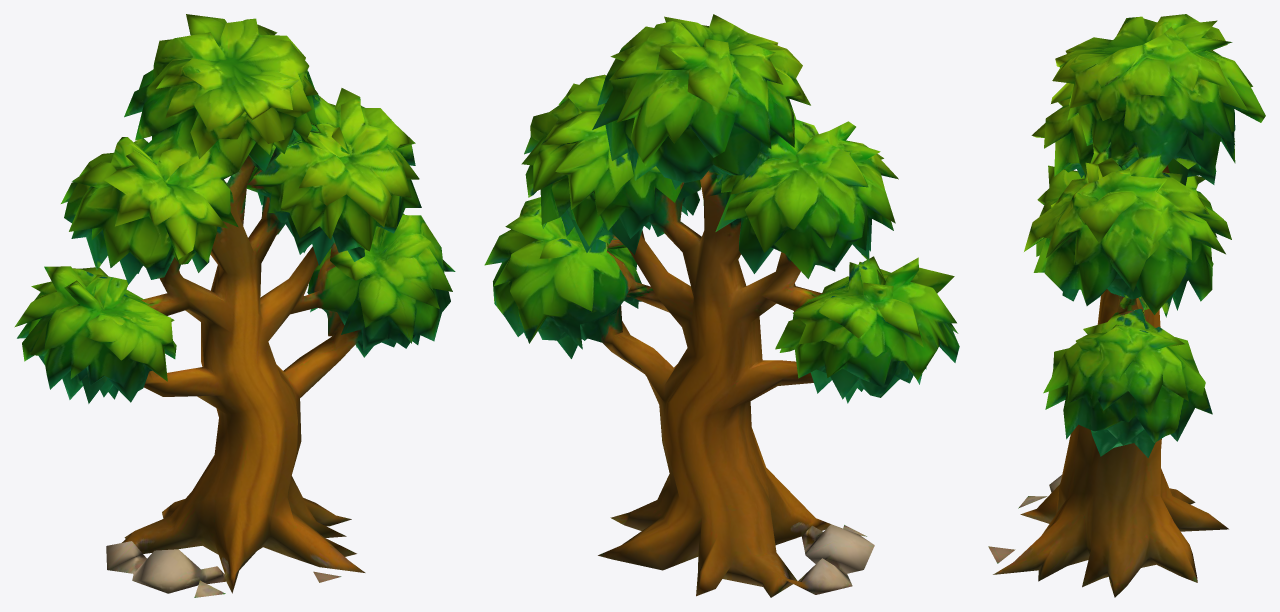
Rendered from Tree1.glb.
The picture shows the model from 3 angles, left to right: view 1: azimuth 30°, elevation 25°; view 2: azimuth 150°, elevation 25°; view 3: azimuth 270°, elevation 25°; orthographic projection. The views are drawn at different scales.
Parts seen in each view (by area): view 1: Mesh1.0; view 2: Mesh1.0; view 3: Mesh1.0.
Part boxes in pixels (bbox=[...]): Mesh1.0: bbox=[14, 14, 455, 597]; Mesh1.0: bbox=[484, 14, 959, 597]; Mesh1.0: bbox=[988, 14, 1265, 597].
Size of the model in its own units: 1.67 by 1.91 by 0.9187.
1 material, 1 textured.
